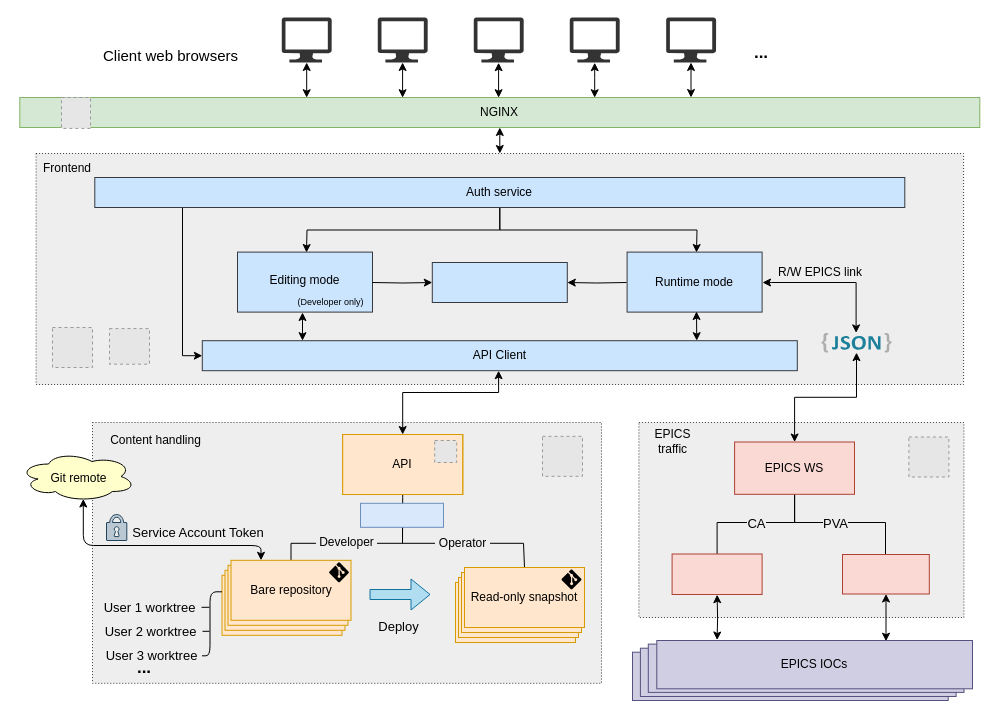
This 997x718 diagram has some shape labels left out. Grey dashed boxes stand in for pictures. The shapes that lost their labels are listed below. From the top down, each one's centre as x and y in pixels, then its label:
At point (499, 282): "Widget rendering".
At point (402, 514): "User identity".
At point (716, 573): "PyEPICS".
At point (885, 574): "P4P".
